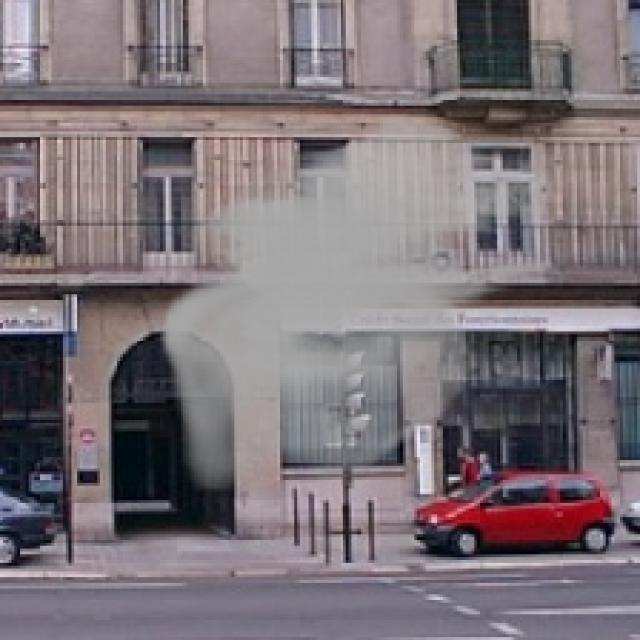Smoke: (160, 111, 557, 492)
